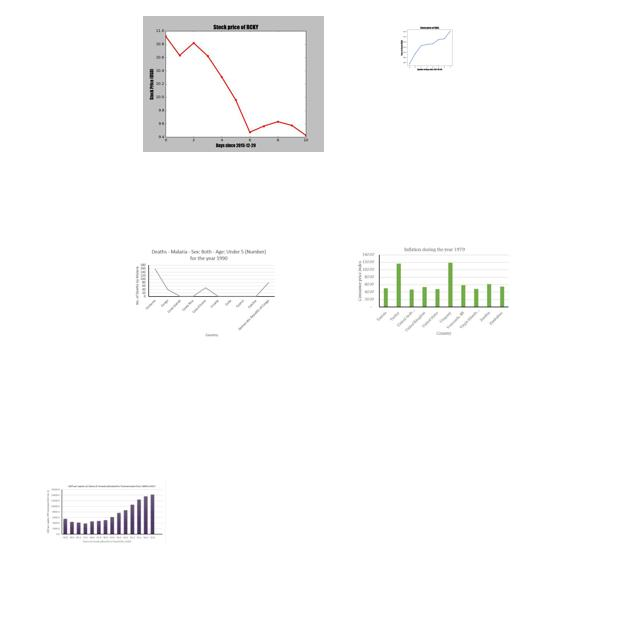Graph: (143, 16, 324, 152), (357, 245, 510, 336), (131, 246, 277, 339), (44, 481, 166, 546), (398, 24, 460, 71)
